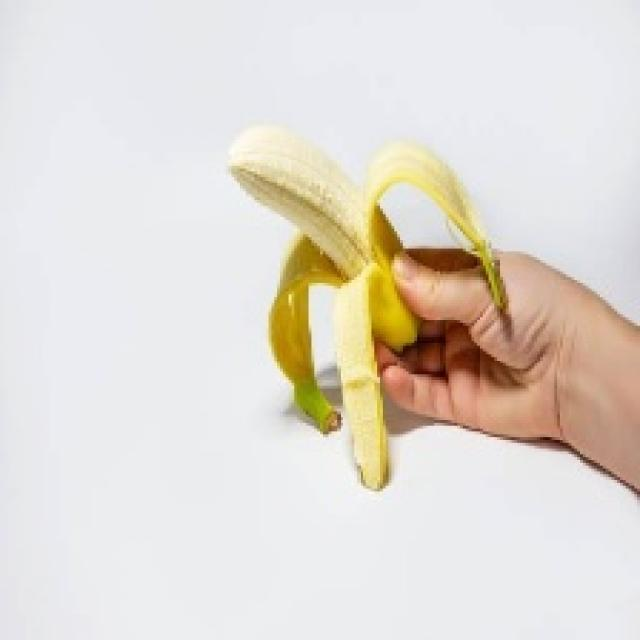Banana: (226, 123, 508, 488)
